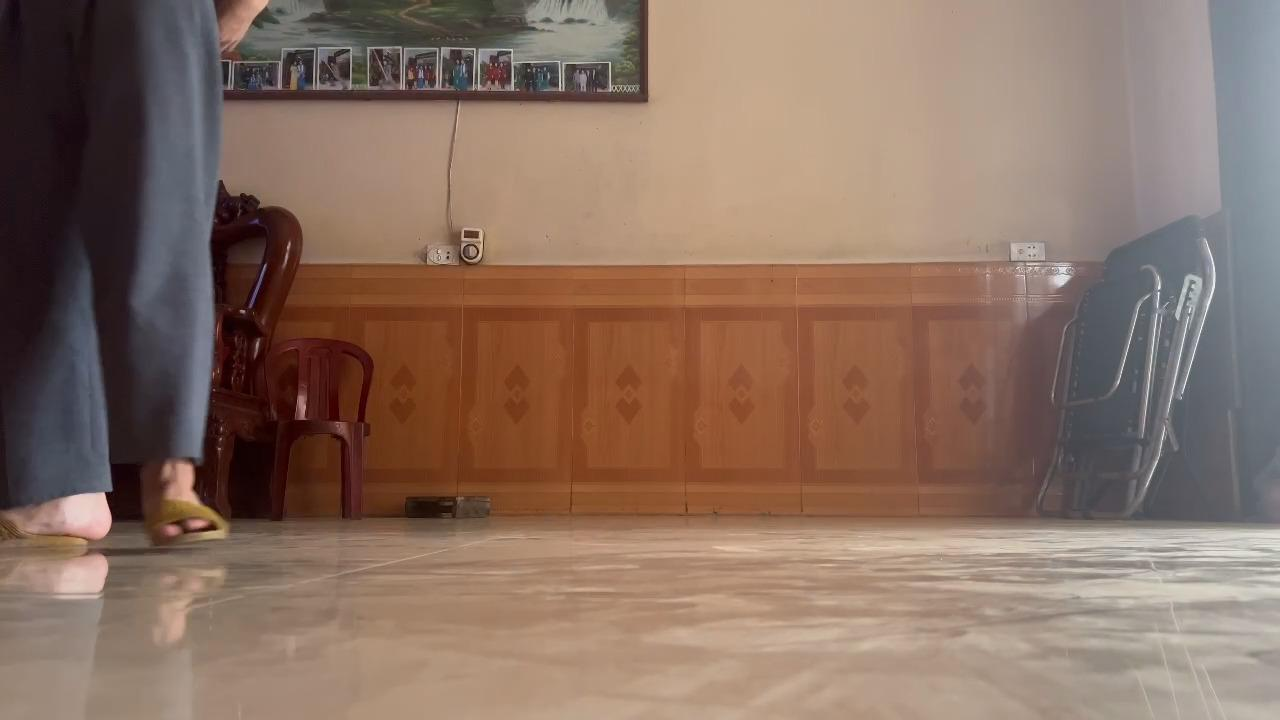no-boot: (0, 490, 117, 564), (130, 485, 240, 557)
